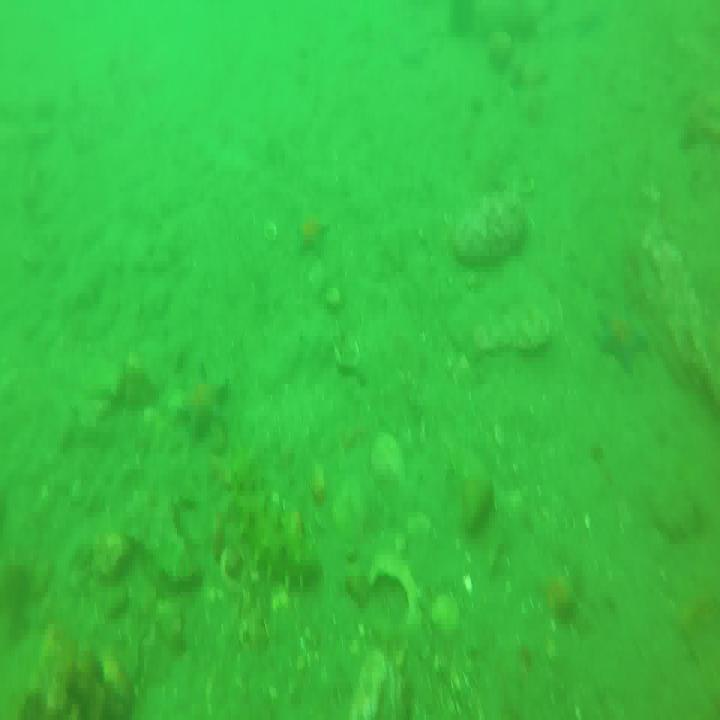holothurian: (230, 451, 320, 582)
starfish: (539, 559, 588, 635), (180, 365, 233, 430), (599, 305, 646, 371), (298, 212, 331, 256)
